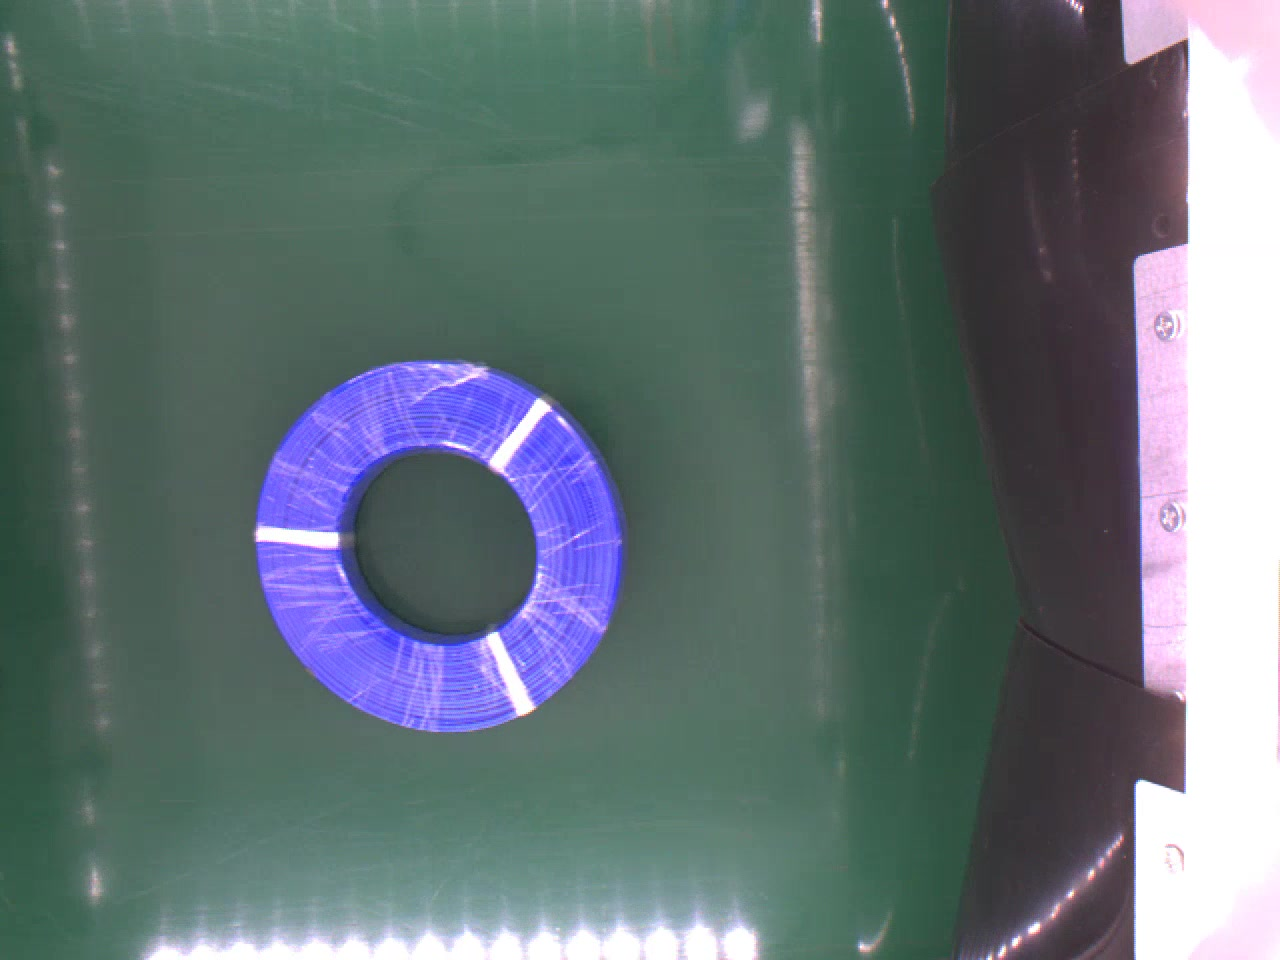blue: (251, 361, 626, 726)
